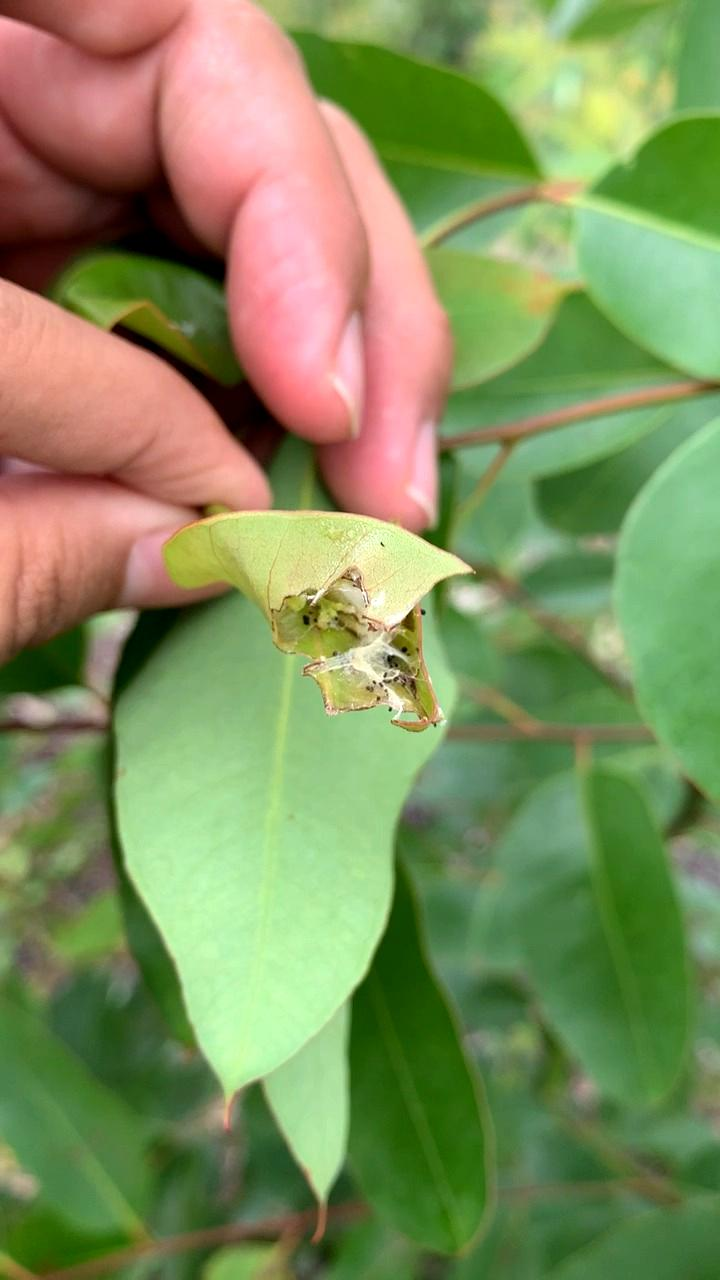Leaf Roller - Leaf: (150, 480, 489, 772)
